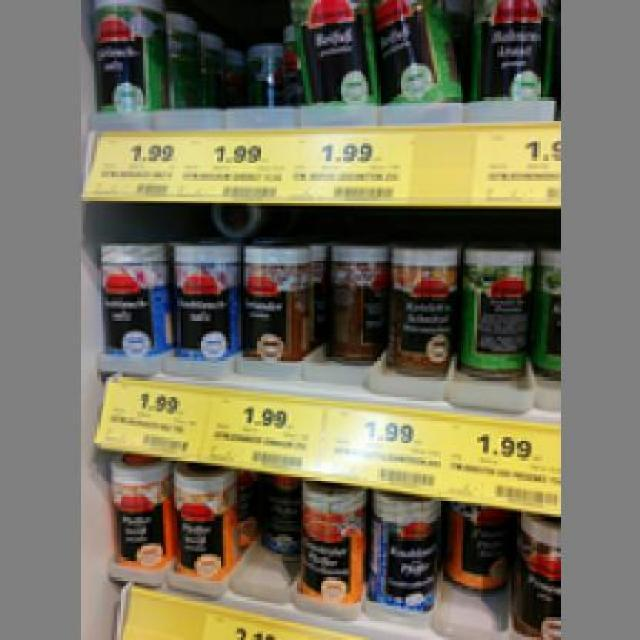Spices: (459, 243, 532, 374), (88, 236, 168, 352), (286, 0, 374, 100), (294, 482, 362, 608), (85, 0, 161, 109), (388, 246, 452, 374), (372, 492, 438, 608), (240, 246, 309, 354), (172, 460, 234, 577), (172, 242, 234, 358), (328, 242, 386, 358), (106, 451, 166, 560)
